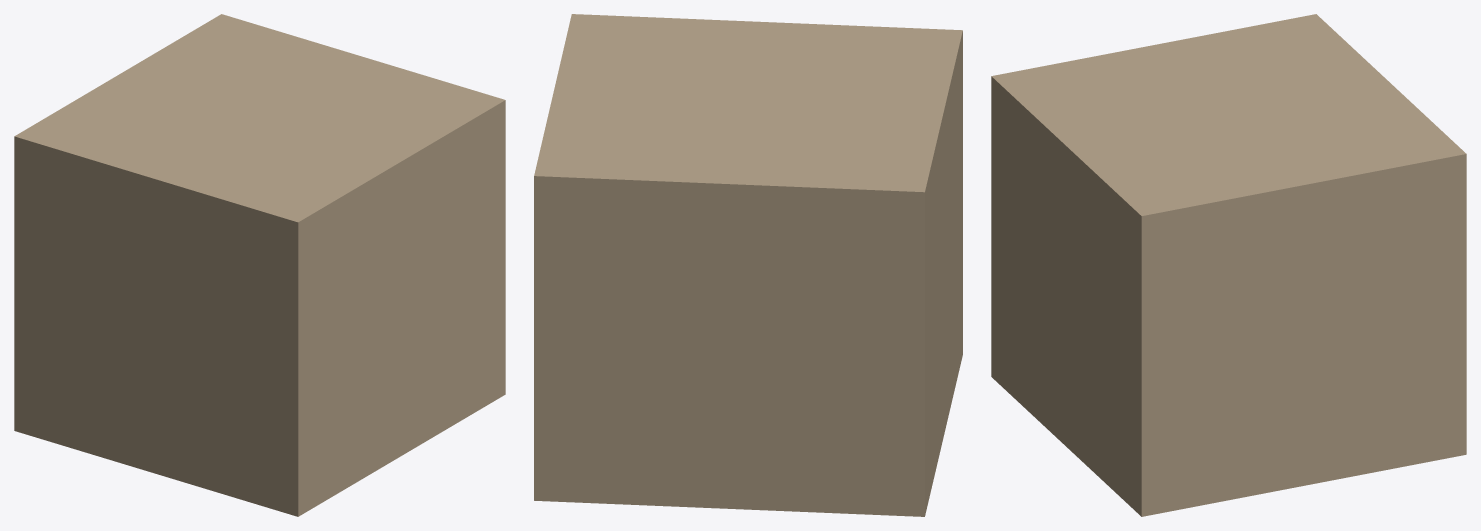
File: bld_101524527.dae
The picture shows the model from 3 angles, left to right: view 1: azimuth 30°, elevation 25°; view 2: azimuth 150°, elevation 25°; view 3: azimuth 270°, elevation 25°; orthographic projection. The views are drawn at different scales.
Visible parts, largest first — view 1: bld_101524527; view 2: bld_101524527; view 3: bld_101524527.
Part boxes in pixels (left/top/right/bottom): bld_101524527: left=14, top=14, right=505, bottom=516; bld_101524527: left=534, top=14, right=962, bottom=516; bld_101524527: left=991, top=14, right=1466, bottom=516.
Size of the model in its own units: 11.54 by 11.46 by 8.
